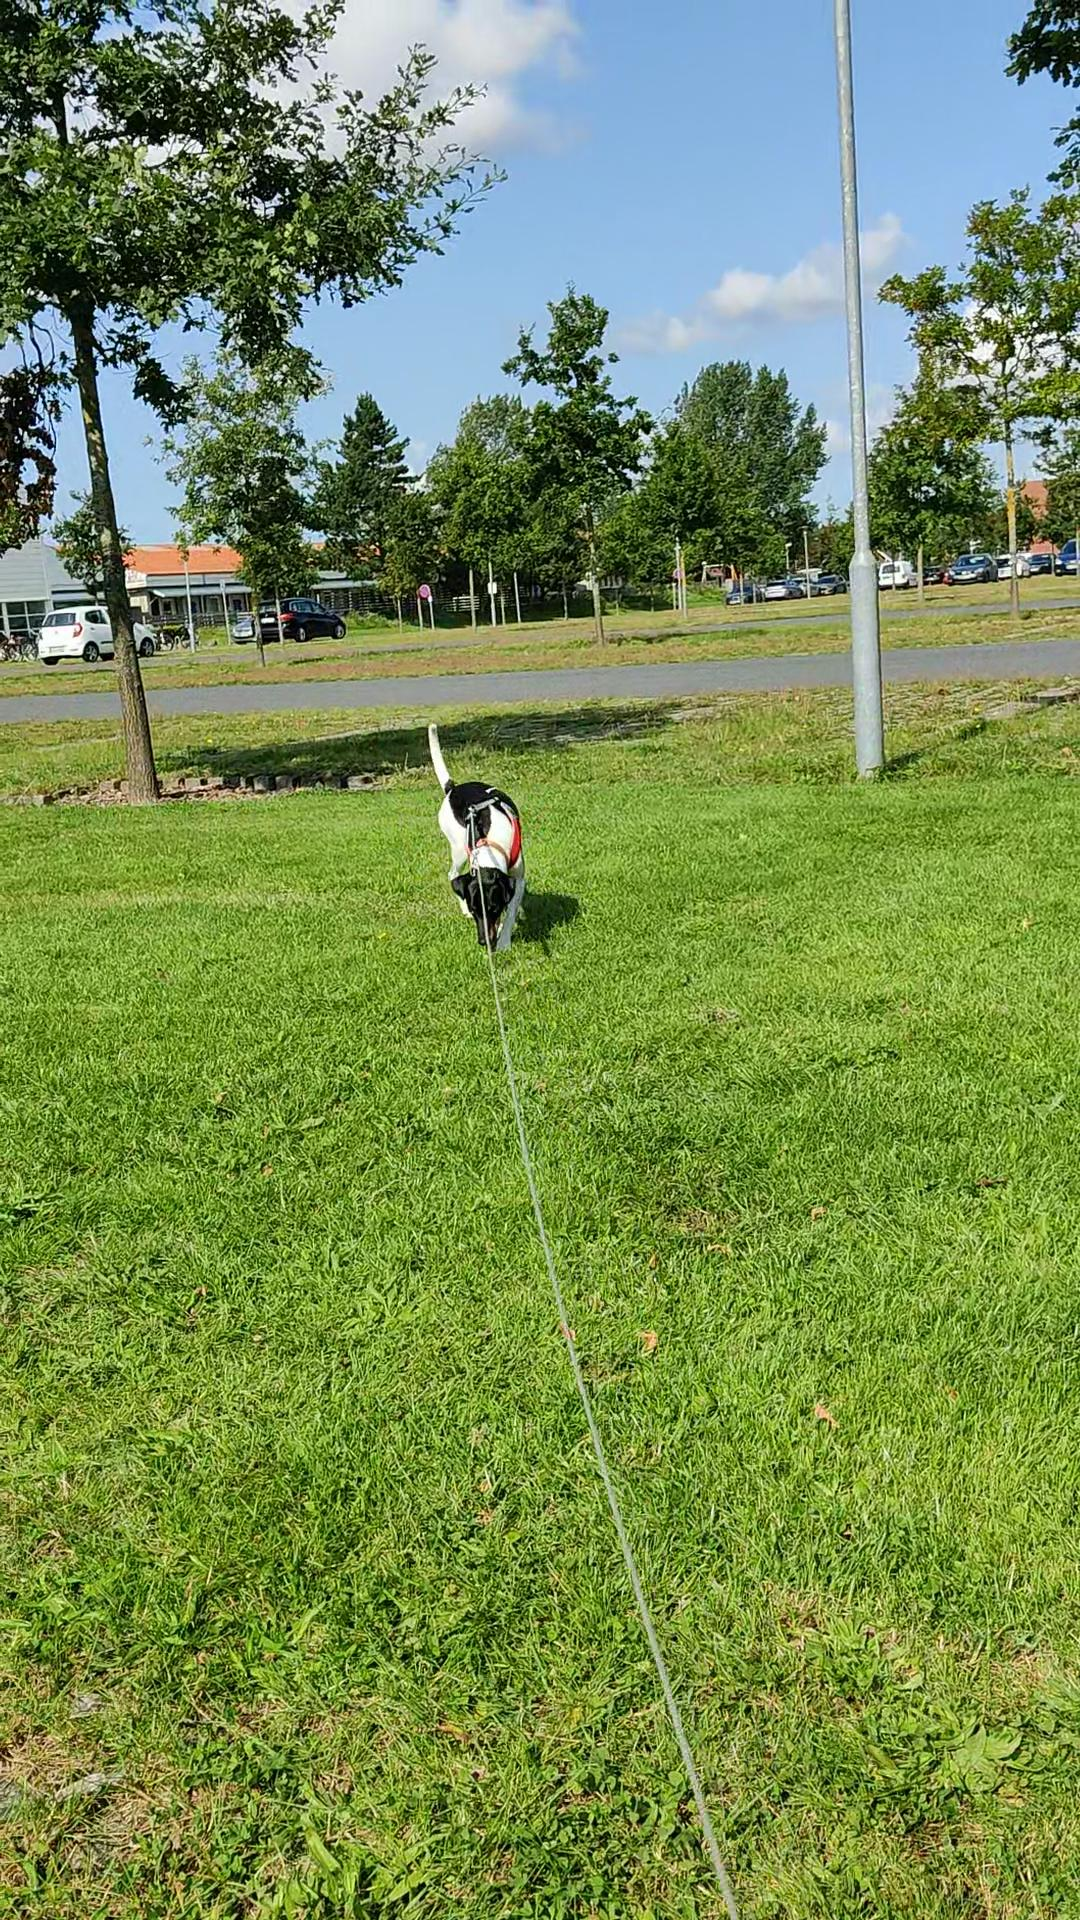Dog: (419, 713, 531, 953)
